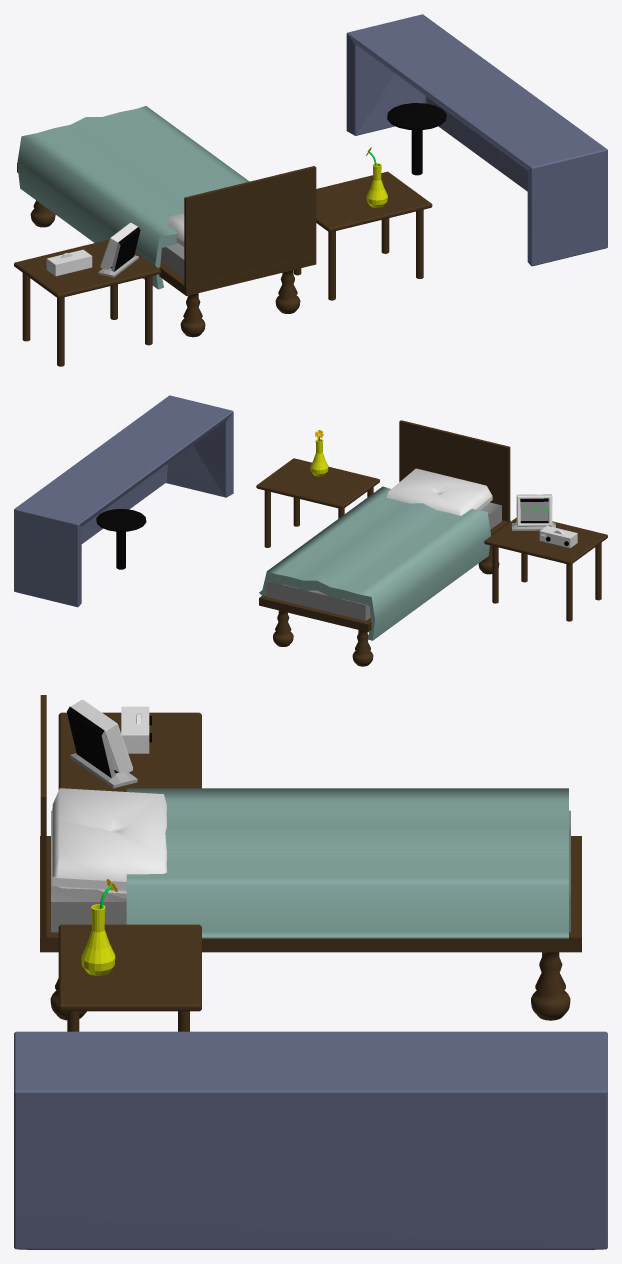
The model's file is GameJamHospitalRoom.fbx.
3 renders of one model, top to bottom at view 1: azimuth 30°, elevation 25°; view 2: azimuth 150°, elevation 25°; view 3: azimuth 270°, elevation 25°, orthographic. The views are drawn at different scales.
Parts seen in each view (by area): view 1: pCube11, pCube28, pCube27, pCylinder16, pCylinder19; view 2: pCube11, pCube28, pCube27, pCylinder16, pCylinder19; view 3: pCube28, pCube11, pCylinder16, pCube27.
Part boxes in pixels (x1,y1,x2,y2): pCube11: [17, 106, 316, 337]; pCube28: [346, 14, 607, 266]; pCube27: [14, 222, 160, 366]; pCylinder16: [293, 147, 432, 300]; pCylinder19: [387, 103, 446, 175]; pCube11: [259, 420, 510, 666]; pCube28: [14, 395, 233, 607]; pCube27: [484, 494, 607, 621]; pCylinder16: [256, 430, 379, 547]; pCylinder19: [96, 509, 146, 569]; pCube28: [14, 1031, 607, 1249]; pCube11: [40, 695, 581, 1020]; pCylinder16: [58, 879, 201, 1031]; pCube27: [58, 699, 201, 791].
Bounding box in the file's own units: 11.83 × 3.07 × 7.08.
